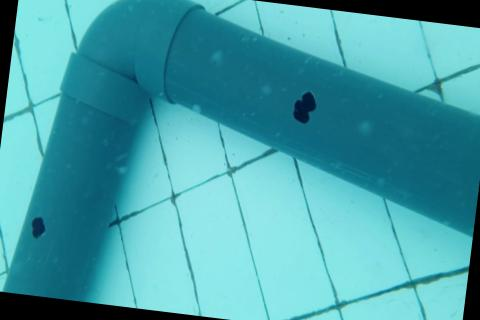kebocoran: (290, 88, 318, 128), (28, 215, 47, 241)
